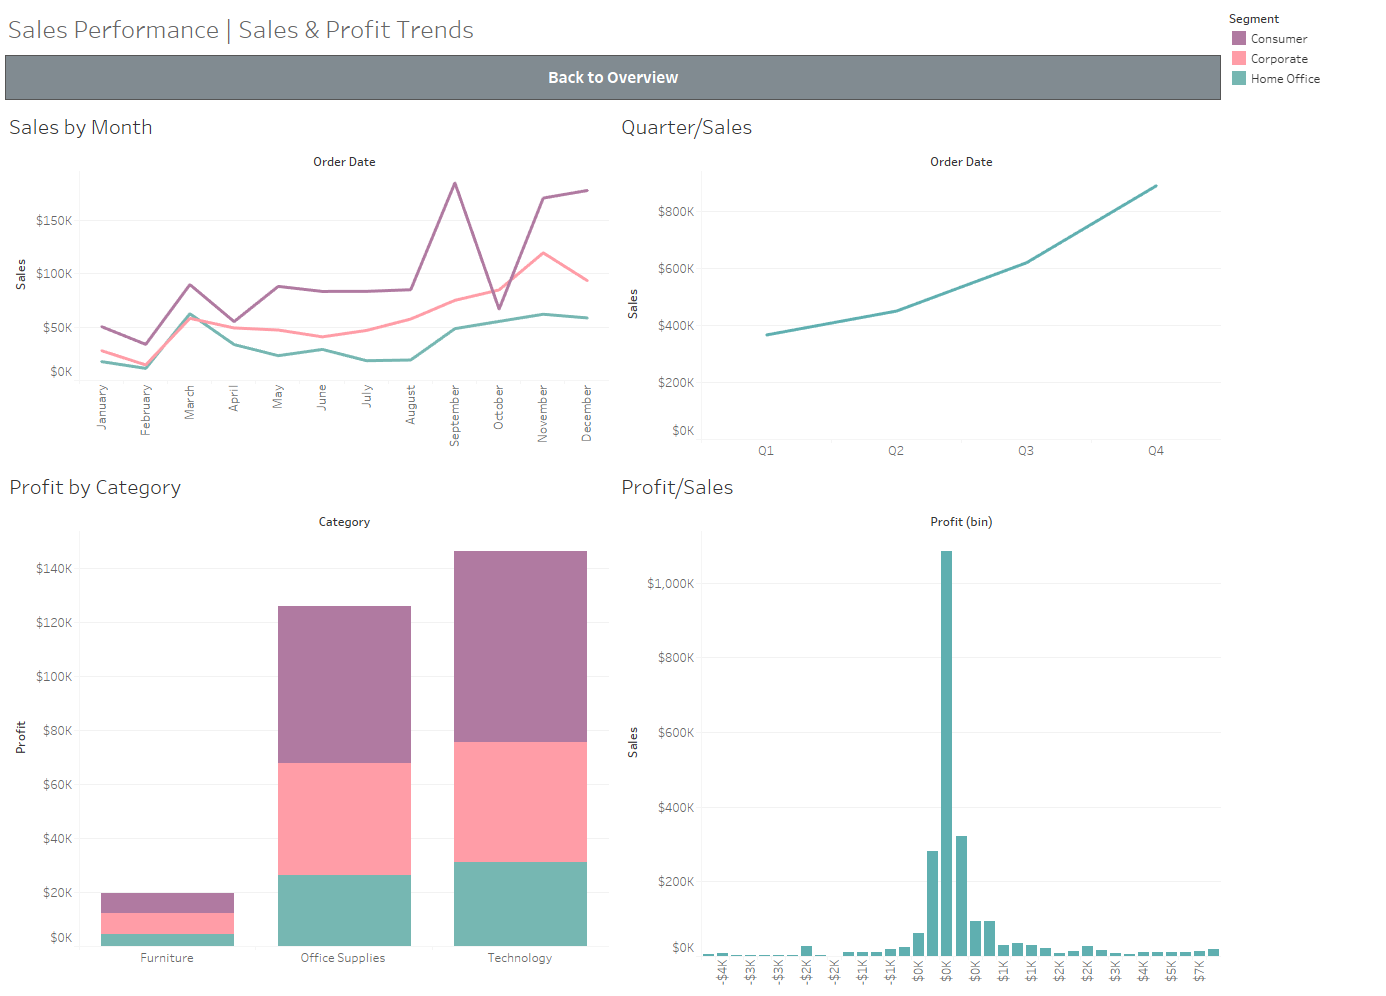

This screenshot's page, from the dashboard's own definition file:
{"tool":"tableau","page":{"name":"Sales and Profit trends","canvas":[1400,1000],"ordinal":3},"visuals":[{"type":"text","box":[8,8,1224,45]},{"type":"legend","title":"Sales by Month","param":"[sqlproxy.0fswtu31y912dm16y7tv71urqwfb].[none:Segment:nk]","box":[1232,8,160,86]},{"type":"dashboard-object","box":[8,53,1224,53]},{"type":"worksheet","title":"Sales by Month","mark":"Line","rows":["Sales"],"cols":["Order Date"],"box":[8,106,612,360]},{"type":"worksheet","title":"Quarter/Sales","mark":"Automatic","rows":["Sales"],"cols":["Order Date"],"box":[620,106,612,360]},{"type":"worksheet","title":"Profit by Category","mark":"Automatic","rows":["Profit"],"cols":["Category"],"box":[8,466,612,526]},{"type":"worksheet","title":"Profit/Sales","mark":"Automatic","rows":["Sales"],"cols":["Profit (bin)"],"box":[620,466,612,526]}]}

Visuals, with their boxes in screenshot pixels (x1, y1, x2, y2), scaled from the page's 1400x1000 canvas onto the 1386x996 screenshot:
text: select_region(8, 8, 1220, 53)
"Sales by Month" legend: select_region(1220, 8, 1378, 94)
dashboard-object: select_region(8, 53, 1220, 106)
"Sales by Month" worksheet (Line marks): select_region(8, 106, 614, 464)
"Quarter/Sales" worksheet: select_region(614, 106, 1220, 464)
"Profit by Category" worksheet: select_region(8, 464, 614, 988)
"Profit/Sales" worksheet: select_region(614, 464, 1220, 988)
